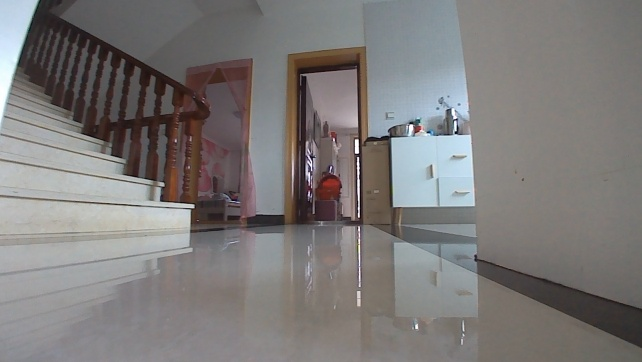door_anno: (281, 52, 316, 225)
